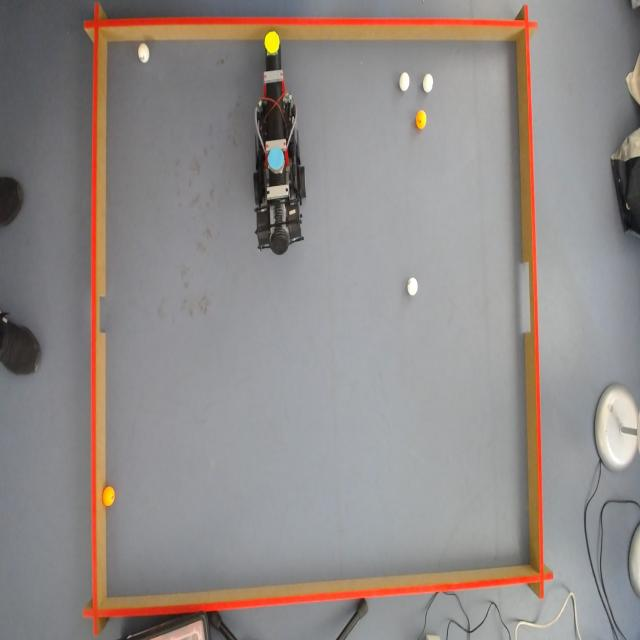orange: (102, 485, 115, 505), (414, 112, 426, 130)
robot: (256, 68, 305, 260)
robot-rear: (268, 148, 284, 169)
white: (265, 34, 278, 54), (138, 43, 149, 64), (421, 74, 433, 93), (408, 276, 418, 297), (400, 70, 409, 91)
